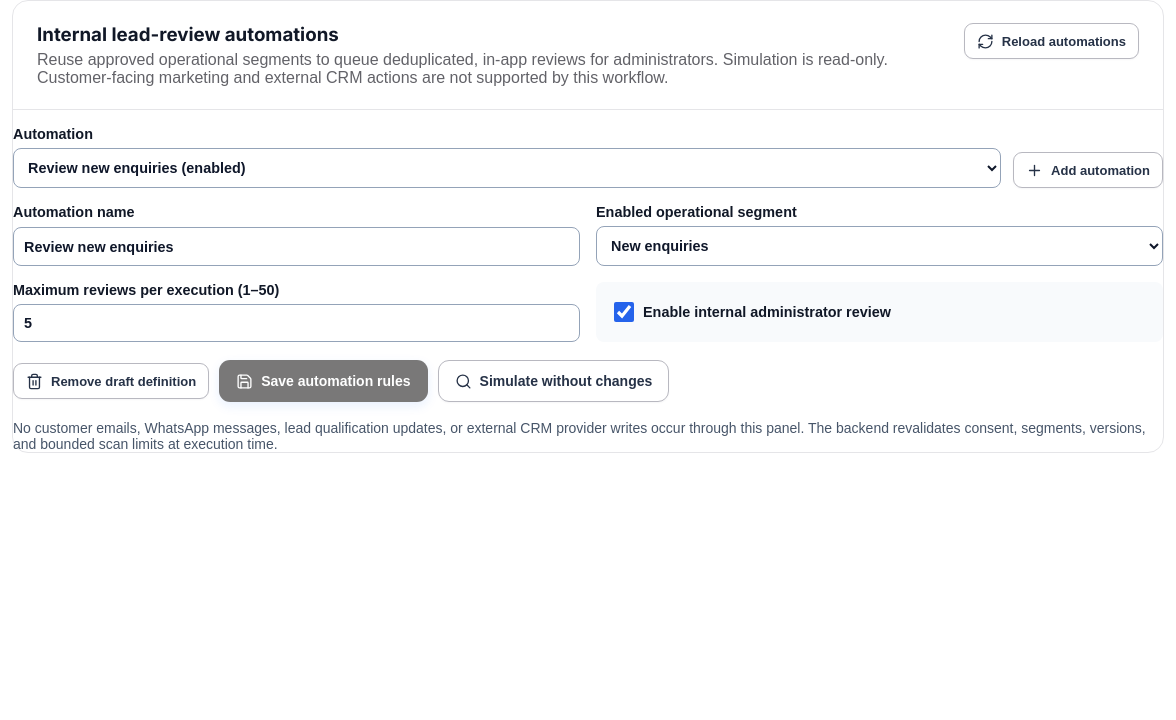
Scenario: Internal Lead automations inside existing CRM Workflow › saves a versioned policy but never executes or contacts customers
Replace the text in the field labelled "Automation name" with "Qualified admissions review" at (296, 246), box [13, 227, 580, 266]
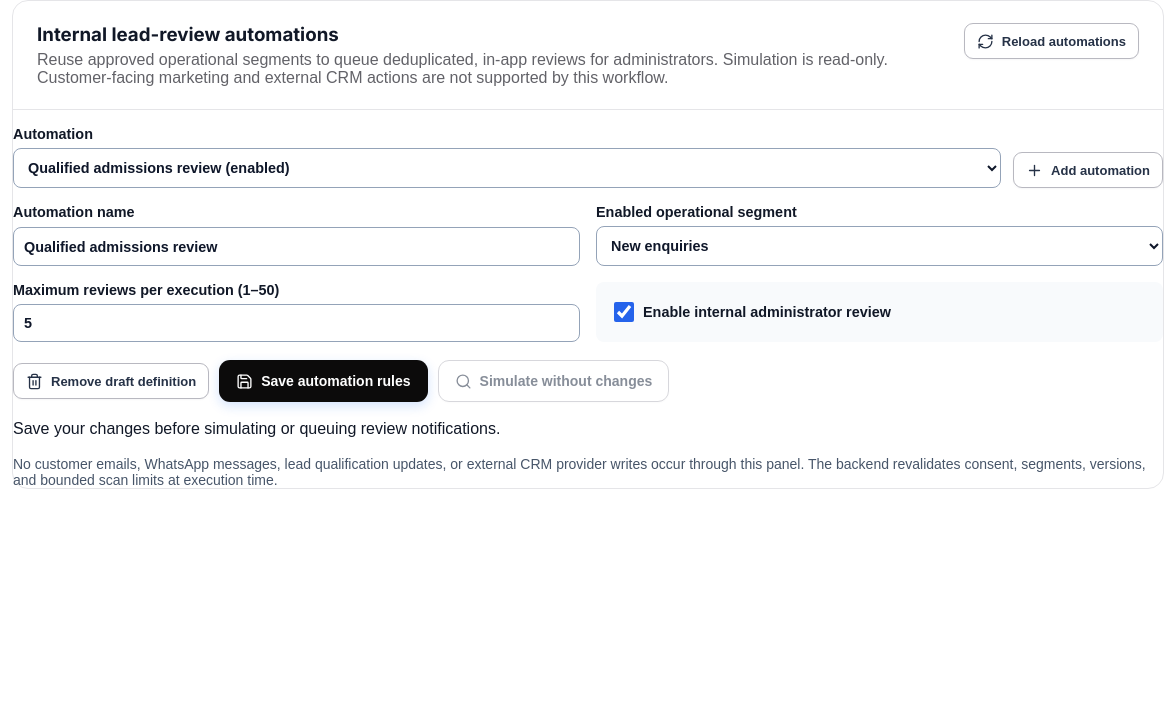
expect the button "Simulate without changes" is disabled: met, box [438, 360, 669, 402]
Click the button "Save automation rules" at (323, 381), box [219, 360, 428, 402]
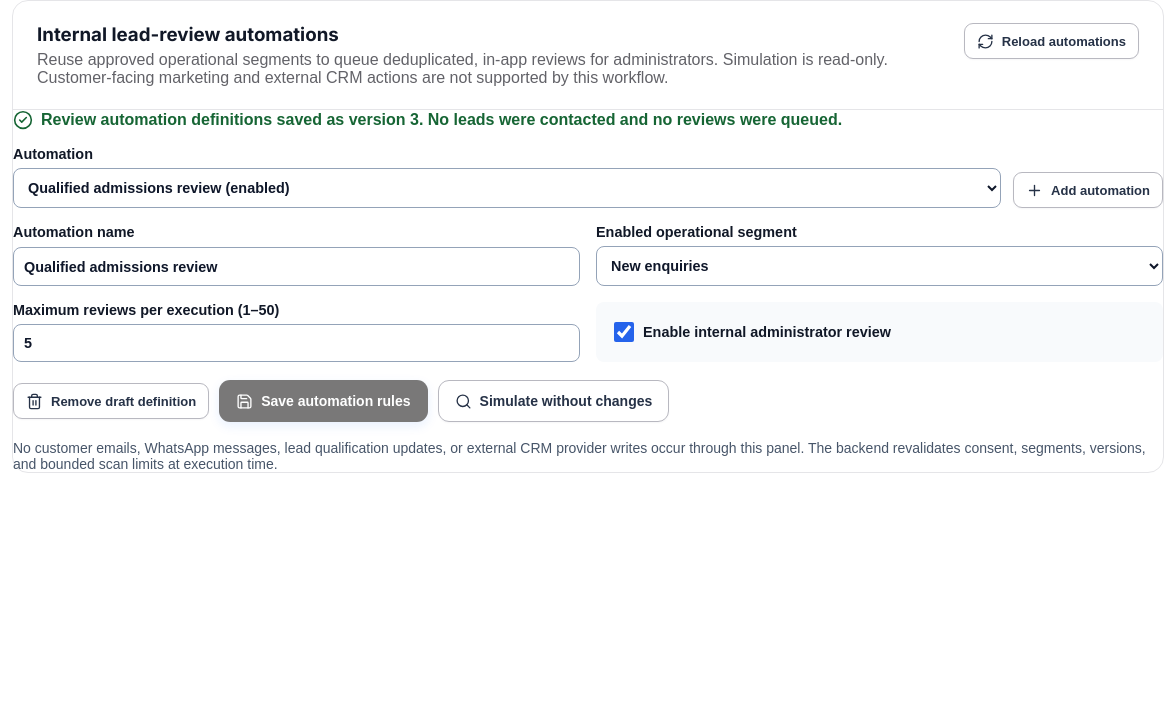
expect the text "definitions saved as version 3" is shown: met, box [41, 111, 842, 128]
